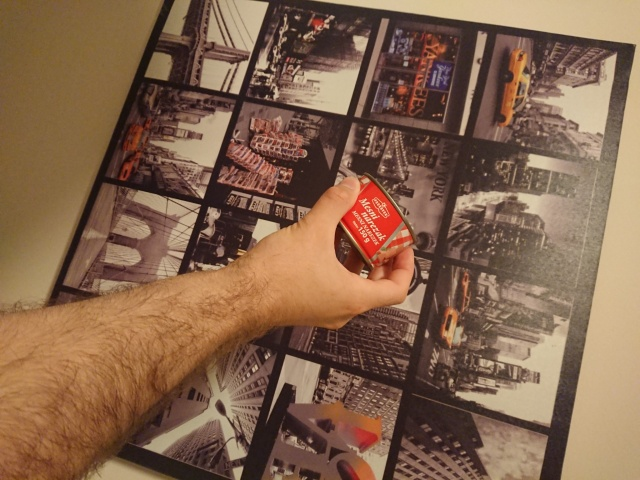Podravka Luncheon Meat 150g: (322, 170, 419, 274)
